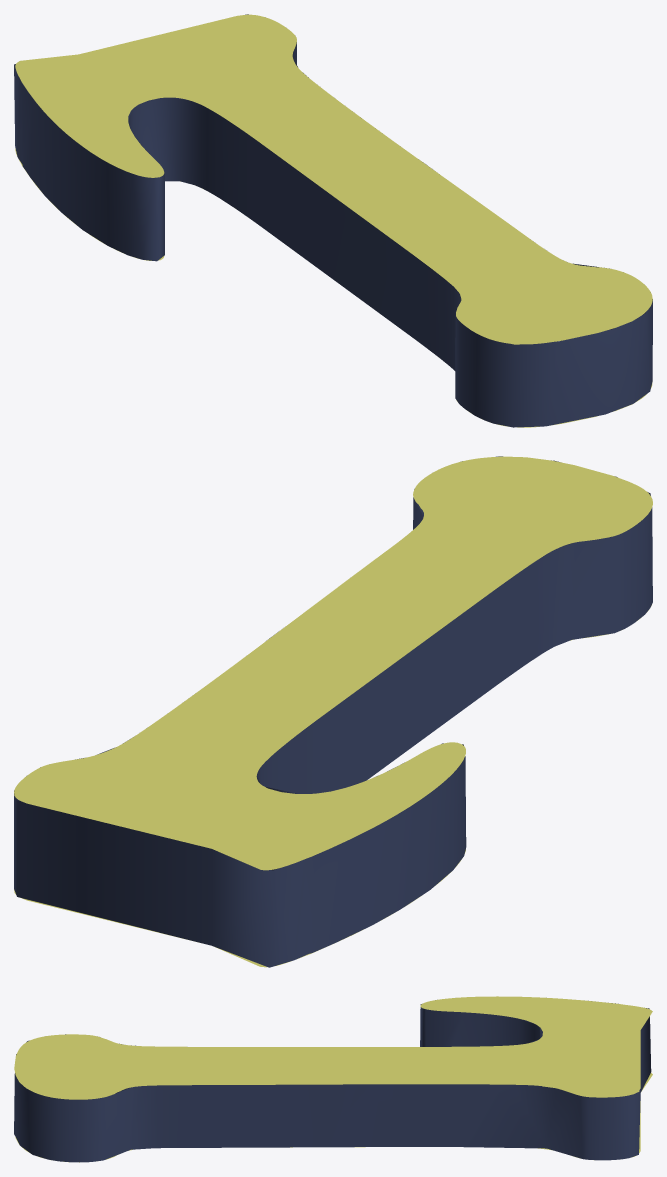
The model's file is l_boss.fbx.
The picture shows the model from 3 angles, top to bottom: view 1: azimuth 30°, elevation 25°; view 2: azimuth 150°, elevation 25°; view 3: azimuth 270°, elevation 25°; orthographic projection. The views are drawn at different scales.
Parts seen in each view (by area): view 1: L; view 2: L; view 3: L.
Part boxes in pixels (x1,y1,x2,y2): L: [14, 14, 652, 427]; L: [14, 456, 652, 967]; L: [14, 996, 652, 1162].
Size of the model in its own units: 0.5648 by 0.1599 by 1.48.
